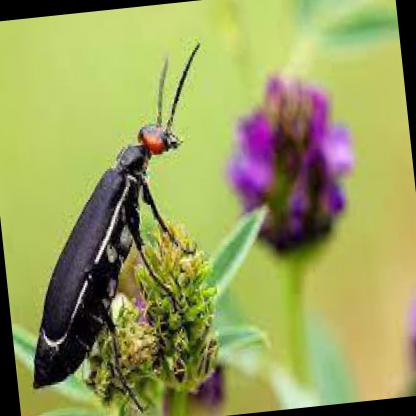blister beetle: (32, 45, 201, 389)
